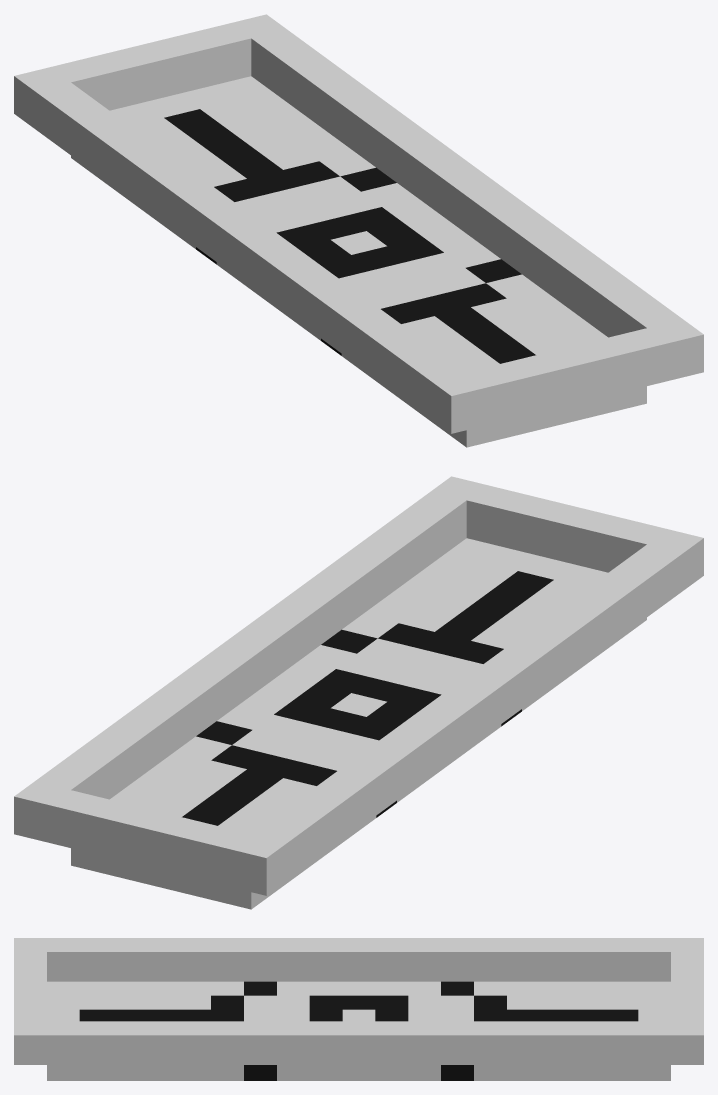
Rendered from Square_Plate.FBX.
3 renders of one model, top to bottom at view 1: azimuth 30°, elevation 25°; view 2: azimuth 150°, elevation 25°; view 3: azimuth 270°, elevation 25°, orthographic. The views are drawn at different scales.
Parts seen in each view (by area): view 1: Rect_Plate; view 2: Rect_Plate; view 3: Rect_Plate.
Boxes of the visible parts, bbox=[...] form: Rect_Plate: bbox=[14, 14, 703, 447]; Rect_Plate: bbox=[14, 476, 703, 909]; Rect_Plate: bbox=[14, 938, 703, 1080].
Size of the model in its own units: 0.7 by 0.2 by 2.1.
